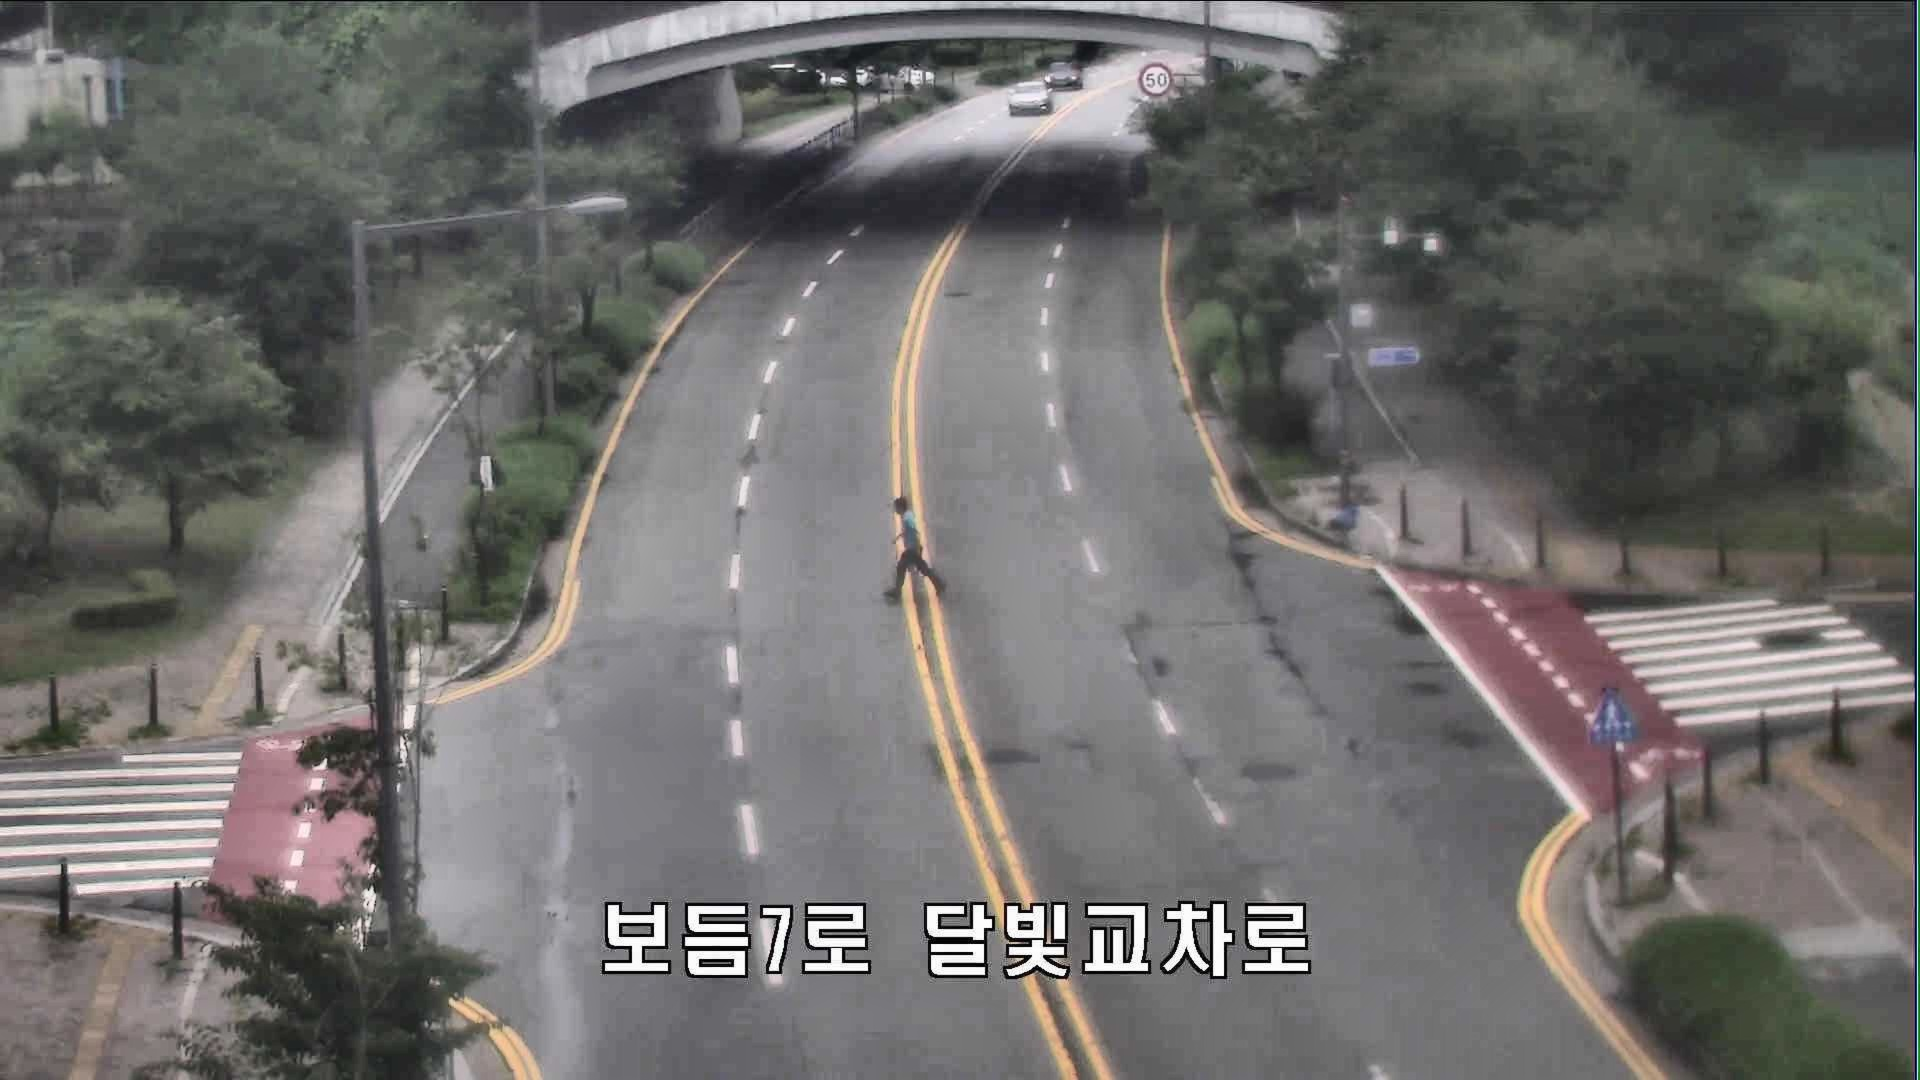jaywalk: (880, 493, 955, 608)
